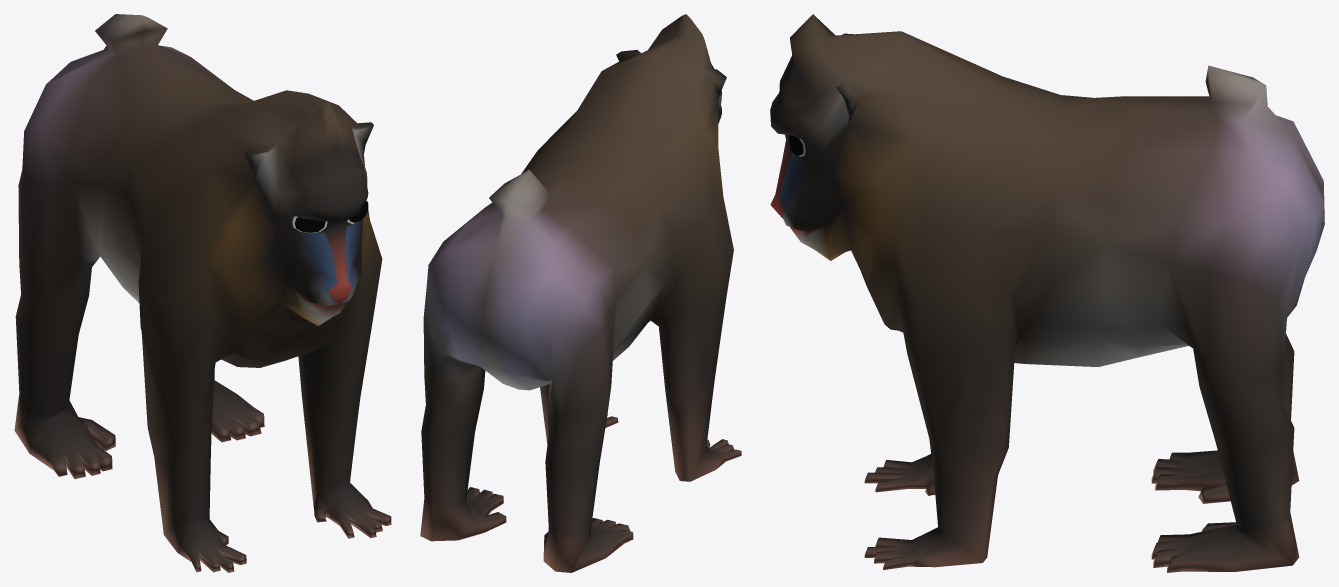
File: Mandrill.gltf
3 views of the same model, side by side, from view 1: azimuth 30°, elevation 25°; view 2: azimuth 150°, elevation 25°; view 3: azimuth 270°, elevation 25° (orthographic). The views are drawn at different scales.
Parts seen in each view (by area): view 1: base.032; view 2: base.032; view 3: base.032.
Boxes of the visible parts, x1,y1,x2,y2 form: base.032: (14,14,391,572); base.032: (420,14,741,572); base.032: (770,14,1324,572).
Bounding box in the file's own units: 0.5421 × 1.09 × 1.09.
